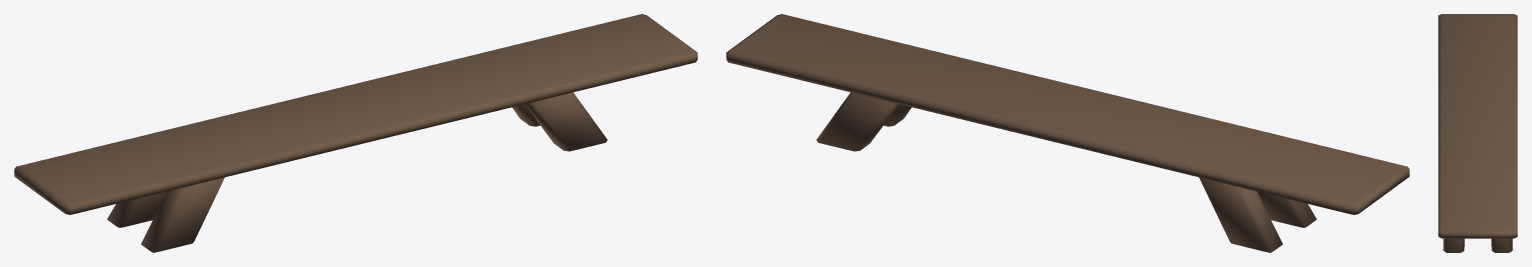
File: Chair.glb
3 renders of one model, left to right at view 1: azimuth 30°, elevation 25°; view 2: azimuth 150°, elevation 25°; view 3: azimuth 270°, elevation 25°, orthographic. The views are drawn at different scales.
Parts seen in each view (by area): view 1: Cube.010; view 2: Cube.010; view 3: Cube.010.
Part boxes in pixels (x1,y1,x2,y2): Cube.010: (14, 14, 697, 252); Cube.010: (726, 14, 1409, 252); Cube.010: (1438, 14, 1517, 252).
Size of the model in its own units: 6 by 0.6657 by 0.9174.
